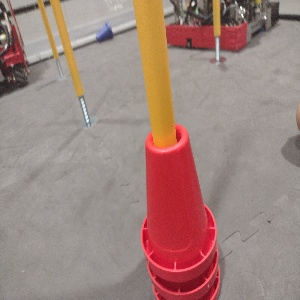Blue_1: (94, 19, 114, 44)
Red_3: (139, 122, 221, 299)
